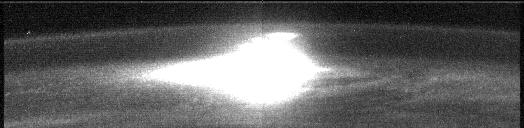negative: (265, 30, 298, 43)
